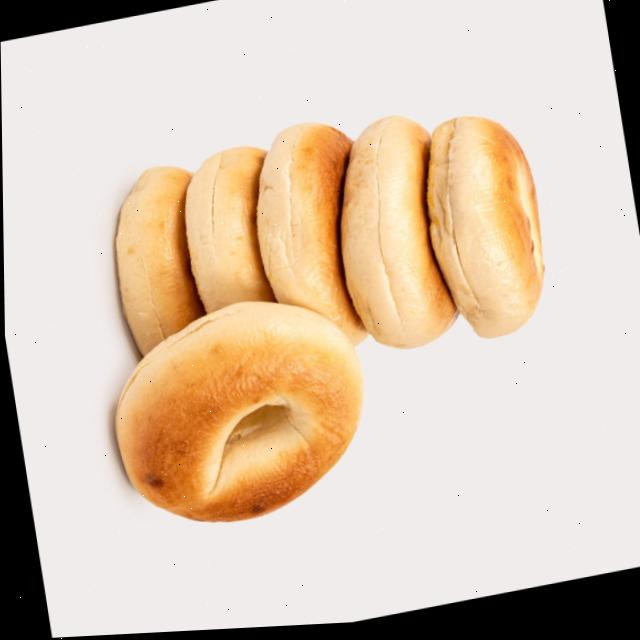Bagel: (113, 304, 361, 524)
